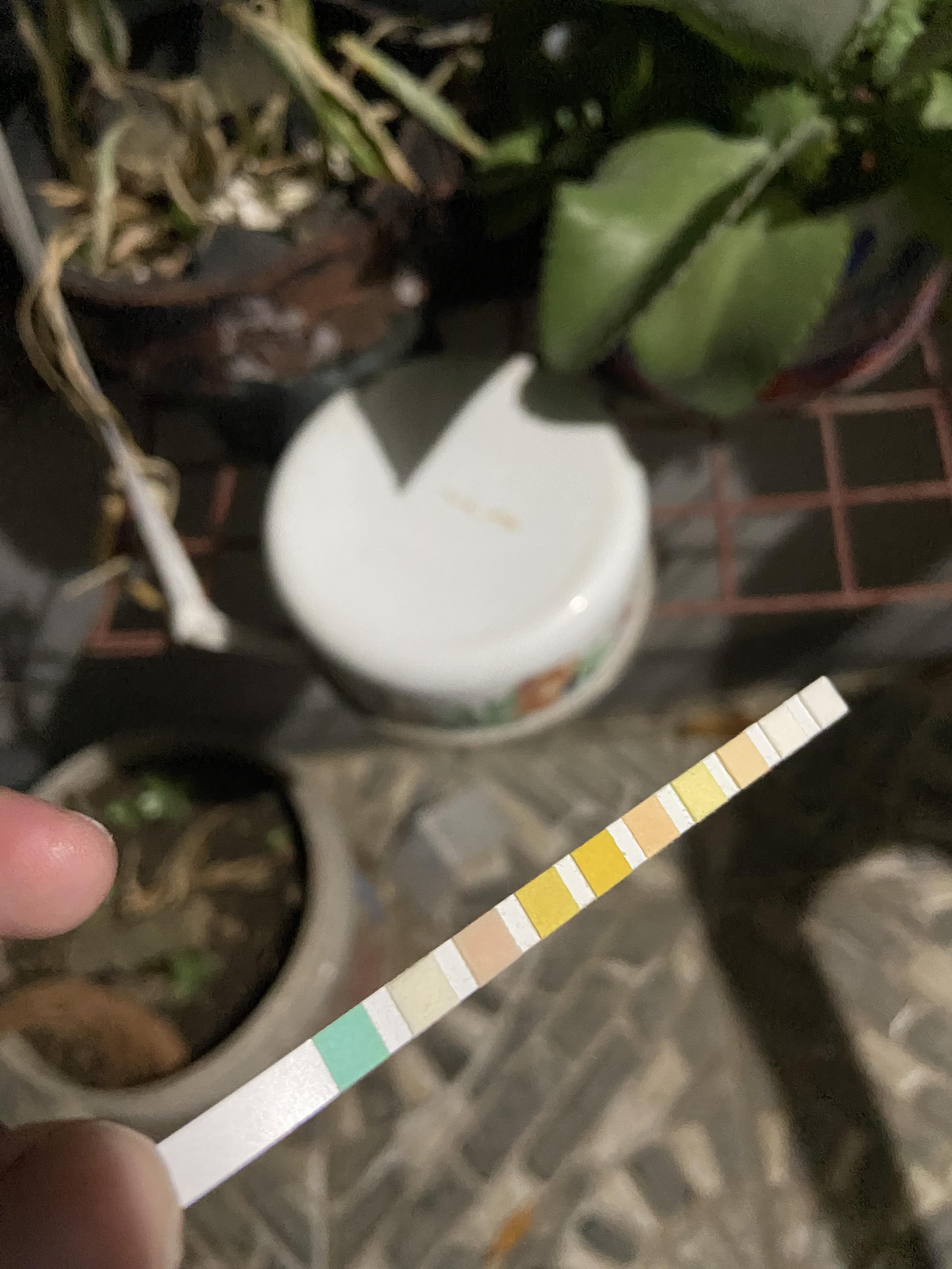Bilirubin: (400, 974, 445, 1013)
Blood: (582, 846, 618, 875)
Glucose: (328, 1027, 376, 1067)
Ketone: (465, 929, 509, 963)
Leukocytes: (808, 685, 832, 712)
Nitrite: (768, 714, 792, 741)
Protein: (685, 772, 710, 807)
SpGravity: (527, 885, 566, 915)
Urobilinogen: (728, 743, 753, 775)
pH: (631, 811, 666, 834)
strip: (172, 677, 849, 1194)
